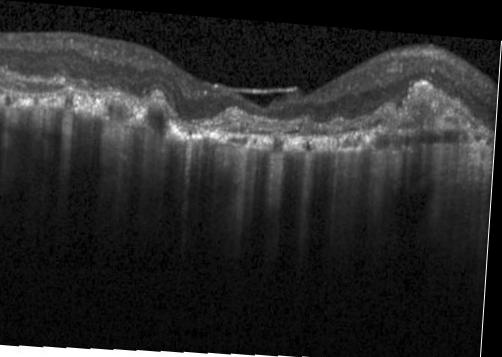subretinal_hyperreflective_material: (185, 73, 496, 129)
